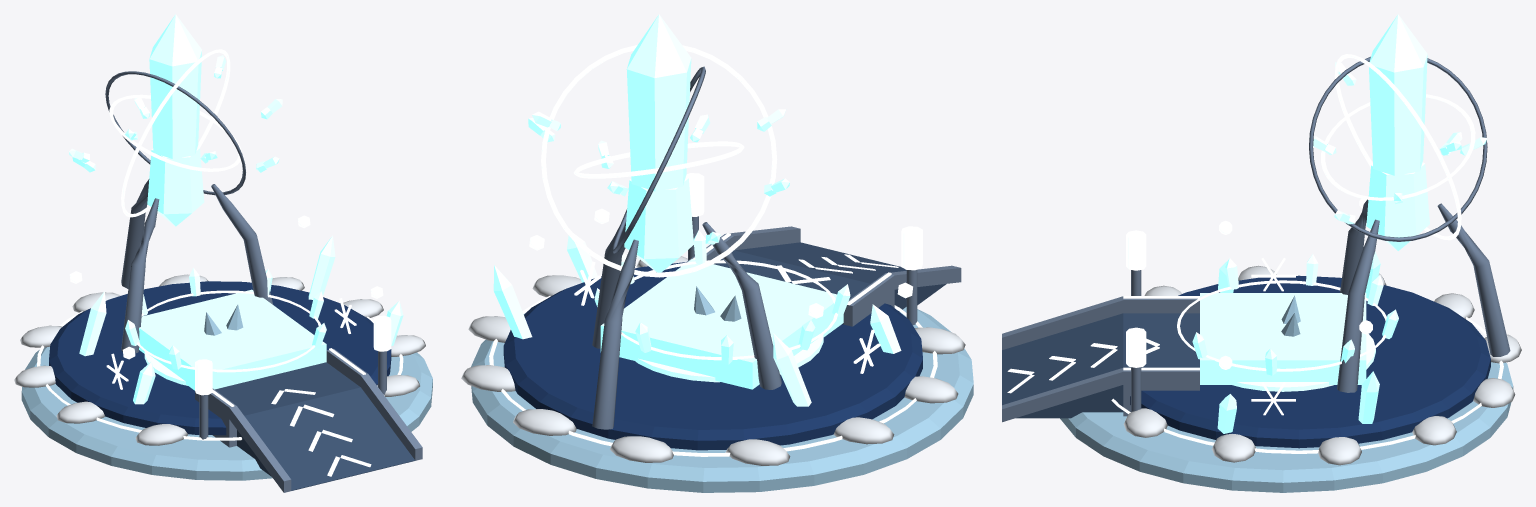
Rendered from FrostSpireFurnace_Roblox.fbx.
3 renders of one model, left to right at view 1: azimuth 30°, elevation 25°; view 2: azimuth 150°, elevation 25°; view 3: azimuth 270°, elevation 25°, orthographic. The views are drawn at different scales.
Parts seen in each view (by area): view 1: DeepIce, IceCrystal, Conveyor, PackedIce, BurnZone, FrostSteel, FrostNeon, Snow; view 2: DeepIce, IceCrystal, PackedIce, BurnZone, FrostSteel, FrostNeon, Snow, Conveyor, FrostWell; view 3: DeepIce, PackedIce, FrostSteel, IceCrystal, BurnZone, Conveyor, FrostNeon, Snow, FrostWell.
Boxes of the visible parts, x1,y1,x2,y2 form: DeepIce: [49, 281, 391, 435]; IceCrystal: [69, 14, 403, 404]; Conveyor: [215, 362, 415, 490]; PackedIce: [21, 304, 432, 480]; BurnZone: [139, 289, 326, 390]; FrostSteel: [105, 71, 422, 492]; FrostNeon: [37, 49, 403, 476]; Snow: [14, 274, 425, 445]; DeepIce: [503, 262, 922, 450]; IceCrystal: [493, 14, 901, 406]; PackedIce: [471, 286, 973, 492]; BurnZone: [600, 259, 843, 389]; FrostSteel: [592, 66, 961, 429]; FrostNeon: [489, 45, 937, 456]; Snow: [461, 256, 965, 465]; Conveyor: [715, 242, 946, 324]; FrostWell: [635, 335, 823, 382]; DeepIce: [1130, 275, 1490, 448]; PackedIce: [1060, 295, 1513, 492]; FrostSteel: [1002, 56, 1510, 422]; IceCrystal: [1192, 14, 1487, 433]; BurnZone: [1200, 293, 1366, 384]; Conveyor: [1002, 313, 1199, 418]; FrostNeon: [1007, 54, 1503, 453]; Snow: [1123, 265, 1521, 465]; FrostWell: [1232, 334, 1375, 391].
Size of the model in its own units: 1454 by 1477 by 1627.
